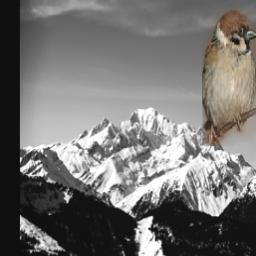Sparrow: (201, 10, 256, 147)
